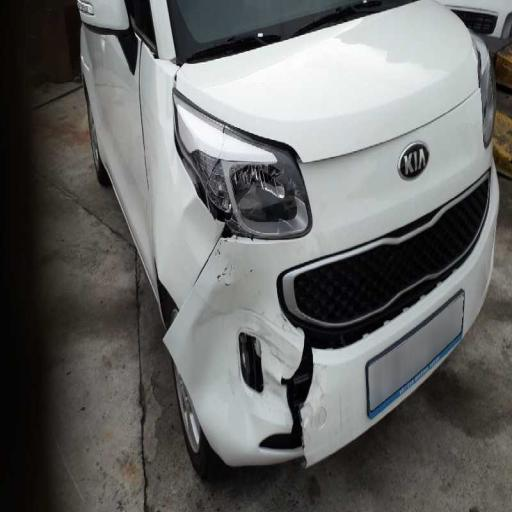broken: (136, 128, 335, 464)
